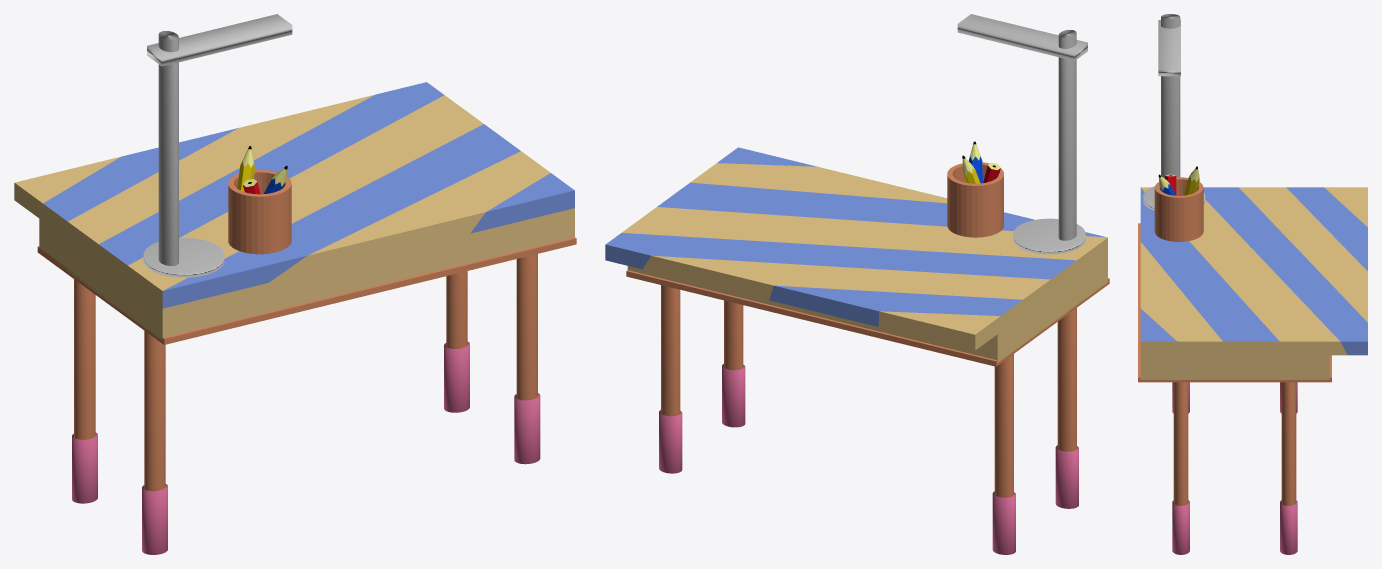
Rendered from HANKOroom.fbx.
The picture shows the model from 3 angles, left to right: view 1: azimuth 30°, elevation 25°; view 2: azimuth 150°, elevation 25°; view 3: azimuth 270°, elevation 25°; orthographic projection. The views are drawn at different scales.
Visible parts, largest first — view 1: 立方体, 円柱.013, 円柱.008, 立方体.001, 円柱.007, 円柱, 立方体.002, 円柱.005, 円柱.012, 円柱.006, 円柱.001, 円柱.003 (+2 smaller); view 2: 立方体, 円柱.013, 円柱.008, 立方体.001, 円柱, 円柱.007, 立方体.002, 円柱.002, 円柱.012, 円柱.003, 円柱.004, 円柱.006 (+2 smaller); view 3: 立方体, 円柱.008, 円柱.013, 円柱.002, 円柱.005, 立方体.002, 立方体.001, 円柱.003, 円柱.006.
Boxes of the visible parts, left/top/right/bottom form: 立方体: left=14, top=82, right=574, bottom=340; 円柱.013: left=158, top=31, right=178, bottom=265; 円柱.008: left=228, top=170, right=291, bottom=254; 立方体.001: left=37, top=237, right=576, bottom=344; 円柱.007: left=144, top=331, right=165, bottom=491; 円柱: left=74, top=279, right=95, bottom=439; 立方体.002: left=147, top=14, right=292, bottom=66; 円柱.005: left=516, top=254, right=537, bottom=400; 円柱.012: left=143, top=238, right=224, bottom=277; 円柱.006: left=514, top=393, right=540, bottom=464; 円柱.001: left=72, top=432, right=97, bottom=503; 円柱.003: left=444, top=342, right=469, bottom=412; 立方体: left=605, top=147, right=1107, bottom=362; 円柱.013: left=1058, top=30, right=1076, bottom=240; 円柱.008: left=947, top=162, right=1003, bottom=237; 立方体.001: left=626, top=270, right=1109, bottom=366; 円柱: left=994, top=354, right=1013, bottom=497; 円柱.007: left=1057, top=308, right=1076, bottom=451; 立方体.002: left=957, top=14, right=1087, bottom=60; 円柱.002: left=661, top=285, right=680, bottom=416; 円柱.012: left=1013, top=218, right=1085, bottom=254; 円柱.003: left=659, top=410, right=682, bottom=473; 円柱.004: left=1055, top=445, right=1078, bottom=508; 円柱.006: left=722, top=364, right=745, bottom=427; 立方体: left=1140, top=187, right=1367, bottom=379; 円柱.008: left=1154, top=177, right=1203, bottom=241; 円柱.013: left=1161, top=14, right=1180, bottom=178; 円柱.002: left=1281, top=382, right=1296, bottom=505; 円柱.005: left=1173, top=382, right=1188, bottom=505; 立方体.002: left=1158, top=20, right=1180, bottom=76; 立方体.001: left=1138, top=223, right=1331, bottom=382; 円柱.003: left=1280, top=500, right=1297, bottom=554; 円柱.006: left=1172, top=500, right=1189, bottom=554.
Size of the model in its own units: 959 by 1150 by 603.
